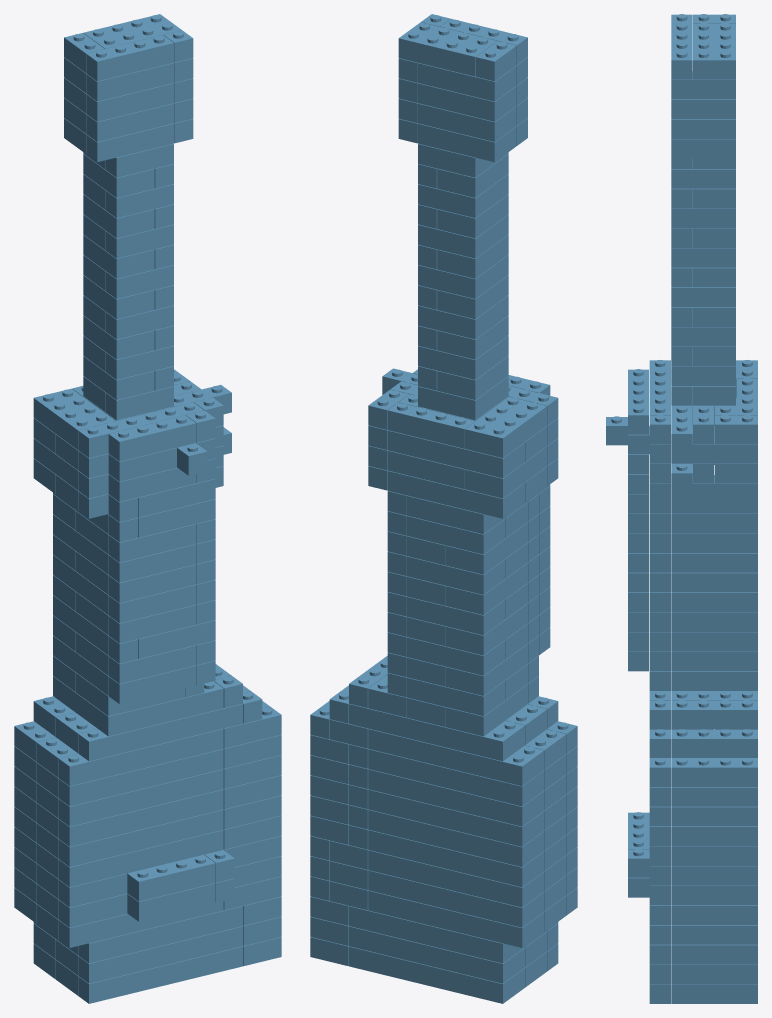
Rendered from 165_guitar_L5.glb.
3 views of the same model, side by side, from view 1: azimuth 30°, elevation 25°; view 2: azimuth 150°, elevation 25°; view 3: azimuth 270°, elevation 25° (orthographic). The views are drawn at different scales.
Size of the model in its own units: 10.98 by 46.13 by 6.98.
